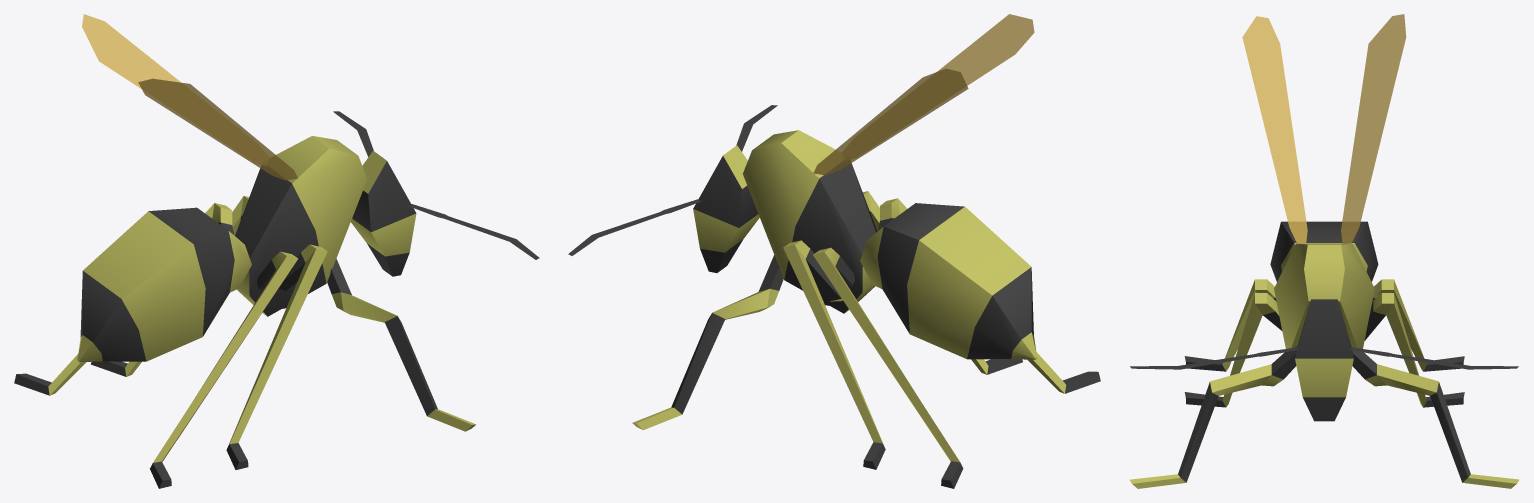
File: wasp.fbx
3 renders of one model, left to right at view 1: azimuth 30°, elevation 25°; view 2: azimuth 150°, elevation 25°; view 3: azimuth 270°, elevation 25°, orthographic. The views are drawn at different scales.
Visible parts, largest first — view 1: Abdomen, Body, Head, Wing_Right, Leg_MiddleRight, Leg_FrontRight, Leg_BackRight, Wing_Left, Leg_BackLeft, Leg_Middle_Left, Antennae_Right; view 2: Abdomen, Body, Head, Wing_Left, Leg_Middle_Left, Leg_FrontLeft, Leg_BackLeft, Wing_Right, Leg_BackRight, Leg_MiddleRight, Antennae_Left; view 3: Body, Wing_Left, Wing_Right, Head, Leg_FrontLeft, Leg_FrontRight, Abdomen, Leg_Middle_Left, Leg_MiddleRight, Leg_BackLeft, Leg_BackRight, Antennae_Right (+1 smaller).
Boxes of the visible parts, x1=… form: Abdomen: x1=77, y1=207, x2=251, y2=362; Body: x1=235, y1=136, x2=367, y2=316; Head: x1=351, y1=150, x2=416, y2=276; Wing_Right: x1=138, y1=78, x2=297, y2=180; Leg_MiddleRight: x1=226, y1=244, x2=327, y2=469; Leg_FrontRight: x1=327, y1=259, x2=475, y2=431; Leg_BackRight: x1=150, y1=251, x2=298, y2=488; Wing_Left: x1=82, y1=14, x2=180, y2=88; Leg_BackLeft: x1=14, y1=203, x2=234, y2=395; Leg_Middle_Left: x1=91, y1=196, x2=249, y2=376; Antennae_Right: x1=408, y1=204, x2=539, y2=259; Abdomen: x1=860, y1=203, x2=1037, y2=359; Body: x1=743, y1=130, x2=877, y2=313; Head: x1=693, y1=145, x2=759, y2=272; Wing_Left: x1=813, y1=68, x2=968, y2=175; Leg_Middle_Left: x1=783, y1=240, x2=885, y2=469; Leg_FrontLeft: x1=632, y1=255, x2=783, y2=430; Leg_BackLeft: x1=813, y1=247, x2=963, y2=488; Wing_Right: x1=937, y1=14, x2=1034, y2=85; Leg_BackRight: x1=878, y1=198, x2=1100, y2=393; Leg_MiddleRight: x1=862, y1=191, x2=1022, y2=374; Antennae_Left: x1=568, y1=199, x2=701, y2=255; Body: x1=1274, y1=243, x2=1374, y2=348; Wing_Left: x1=1341, y1=14, x2=1406, y2=243; Wing_Right: x1=1242, y1=16, x2=1307, y2=243; Head: x1=1295, y1=299, x2=1353, y2=421; Leg_FrontLeft: x1=1351, y1=346, x2=1518, y2=488; Leg_FrontRight: x1=1129, y1=346, x2=1297, y2=488; Abdomen: x1=1270, y1=221, x2=1378, y2=281; Leg_Middle_Left: x1=1364, y1=293, x2=1464, y2=407; Leg_MiddleRight: x1=1184, y1=293, x2=1282, y2=407; Leg_BackLeft: x1=1372, y1=279, x2=1464, y2=371; Leg_BackRight: x1=1184, y1=279, x2=1276, y2=371; Antennae_Right: x1=1130, y1=347, x2=1299, y2=369.
Bounding box in the file's own units: 0.7987 × 0.8033 × 0.7748.
